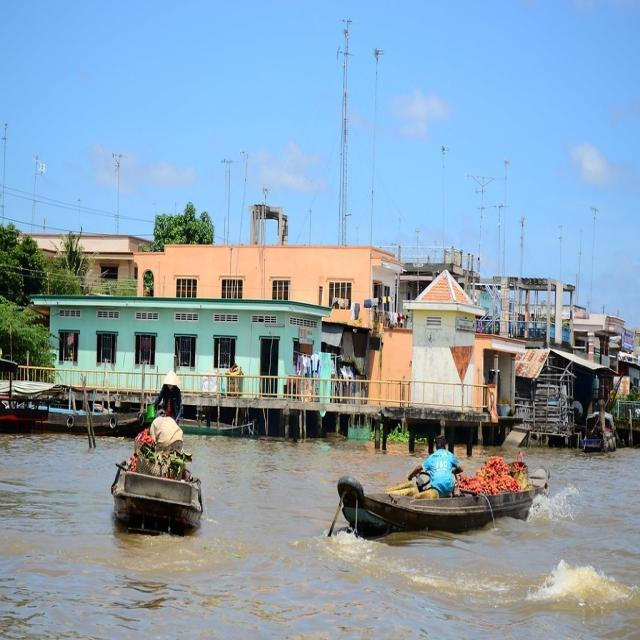Hyacinth: (382, 428, 418, 448)
boat: (322, 459, 566, 533), (95, 428, 213, 541), (585, 404, 617, 456)
